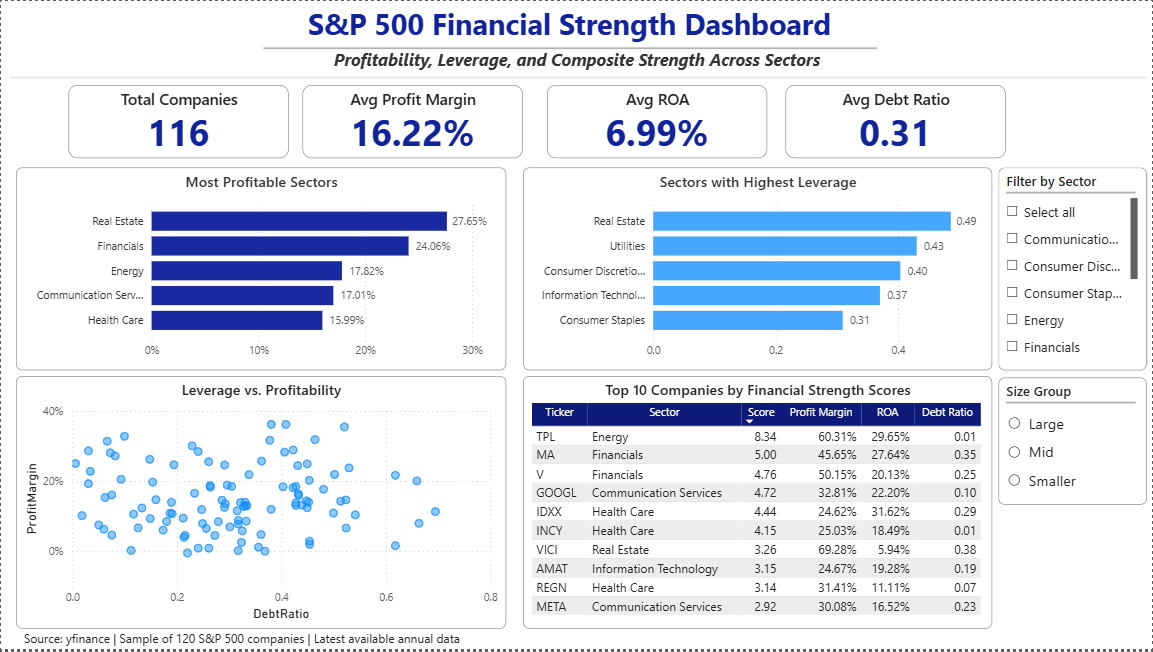

This screenshot's page, from the dashboard's own definition file:
{"tool":"powerbi","page":{"name":"Page 1","canvas":[1280,720],"ordinal":0},"visuals":[{"type":"textbox","box":[10,0,1243.3,54],"z":0},{"type":"textbox","box":[18.3,46.7,1243.3,36.7],"z":1000},{"type":"card","title":"Total Companies","fields":{"Values":["Count(sp500_Compositescore.Ticker)"]},"box":[74.2,93.2,244.5,81.5],"z":2000},{"type":"card","title":"Avg Profit Margin","fields":{"Values":["Avg(sp500_Compositescore.ProfitMargin)"]},"box":[334.8,93.2,244.5,81.5],"z":3000},{"type":"card","title":"Avg ROA","fields":{"Values":["Avg(sp500_Compositescore.ROA)"]},"box":[607,93.2,244.5,81.5],"z":4000},{"type":"card","title":"Avg Debt Ratio","fields":{"Values":["Avg(sp500_Compositescore.DebtRatio)"]},"box":[871.9,93.2,244.5,81.5],"z":5000},{"type":"clusteredBarChart","title":"Most Profitable Sectors","fields":{"Y":["Avg(sp500_Compositescore.ProfitMargin)"],"Category":["sp500_Compositescore.Sector"]},"box":[17.5,184.9,544.4,225.6],"z":6000},{"type":"clusteredBarChart","title":"Sectors with Highest Leverage","fields":{"Category":["sp500_Compositescore.Sector"],"Y":["Avg(sp500_Compositescore.DebtRatio)"]},"box":[579.3,184.9,521.1,225.6],"z":7000},{"type":"scatterChart","title":"Leverage vs. Profitability","fields":{"X":["sp500_Compositescore.DebtRatio"],"Y":["sp500_Compositescore.ProfitMargin"]},"box":[17.5,416.3,544.4,280.9],"z":8000},{"type":"tableEx","title":"Top 10 Companies by Financial Strength Scores","fields":{"Values":["sp500_Compositescore.Ticker","sp500_Compositescore.Sector","sp500_Compositescore.FinancialStrengthScore","sp500_Compositescore.ProfitMargin","sp500_Compositescore.ROA","sp500_Compositescore.DebtRatio"]},"box":[579.3,416.3,521.1,280.9],"z":9000},{"type":"listSlicer","title":"Filter by Sector","fields":{"Values":["sp500_Compositescore.Sector"]},"box":[1109.1,184.9,164.5,225.6],"z":10000},{"type":"shape","box":[1116.4,198,144.1,29.1],"z":11000},{"type":"shape","box":[291.7,38.3,681.7,28.3],"z":12000},{"type":"shape","box":[10,70,1263.3,30],"z":13000},{"type":"listSlicer","title":"Size Group","fields":{"Values":["sp500_Compositescore.SizeGroup"]},"box":[1109.1,417.7,164.5,141.2],"z":14000},{"type":"shape","box":[1116.4,432.3,144.1,29.1],"z":15000},{"type":"textbox","box":[10.2,692.8,515.3,28],"z":16000}]}

Visuals, with their boxes in screenshot pixels (x1, y1, x2, y2), scaled from the page's 1280x720 canvas onto the 1153x652 screenshot:
textbox: bbox=(9, 0, 1129, 49)
textbox: bbox=(16, 42, 1136, 76)
"Total Companies" card: bbox=(67, 84, 287, 158)
"Avg Profit Margin" card: bbox=(302, 84, 522, 158)
"Avg ROA" card: bbox=(547, 84, 767, 158)
"Avg Debt Ratio" card: bbox=(785, 84, 1006, 158)
"Most Profitable Sectors" clusteredBarChart: bbox=(16, 167, 506, 372)
"Sectors with Highest Leverage" clusteredBarChart: bbox=(522, 167, 991, 372)
"Leverage vs. Profitability" scatterChart: bbox=(16, 377, 506, 631)
"Top 10 Companies by Financial Strength Scores" tableEx: bbox=(522, 377, 991, 631)
"Filter by Sector" listSlicer: bbox=(999, 167, 1147, 372)
shape: bbox=(1006, 179, 1135, 206)
shape: bbox=(263, 35, 877, 60)
shape: bbox=(9, 63, 1147, 91)
"Size Group" listSlicer: bbox=(999, 378, 1147, 506)
shape: bbox=(1006, 391, 1135, 418)
textbox: bbox=(9, 627, 473, 651)
